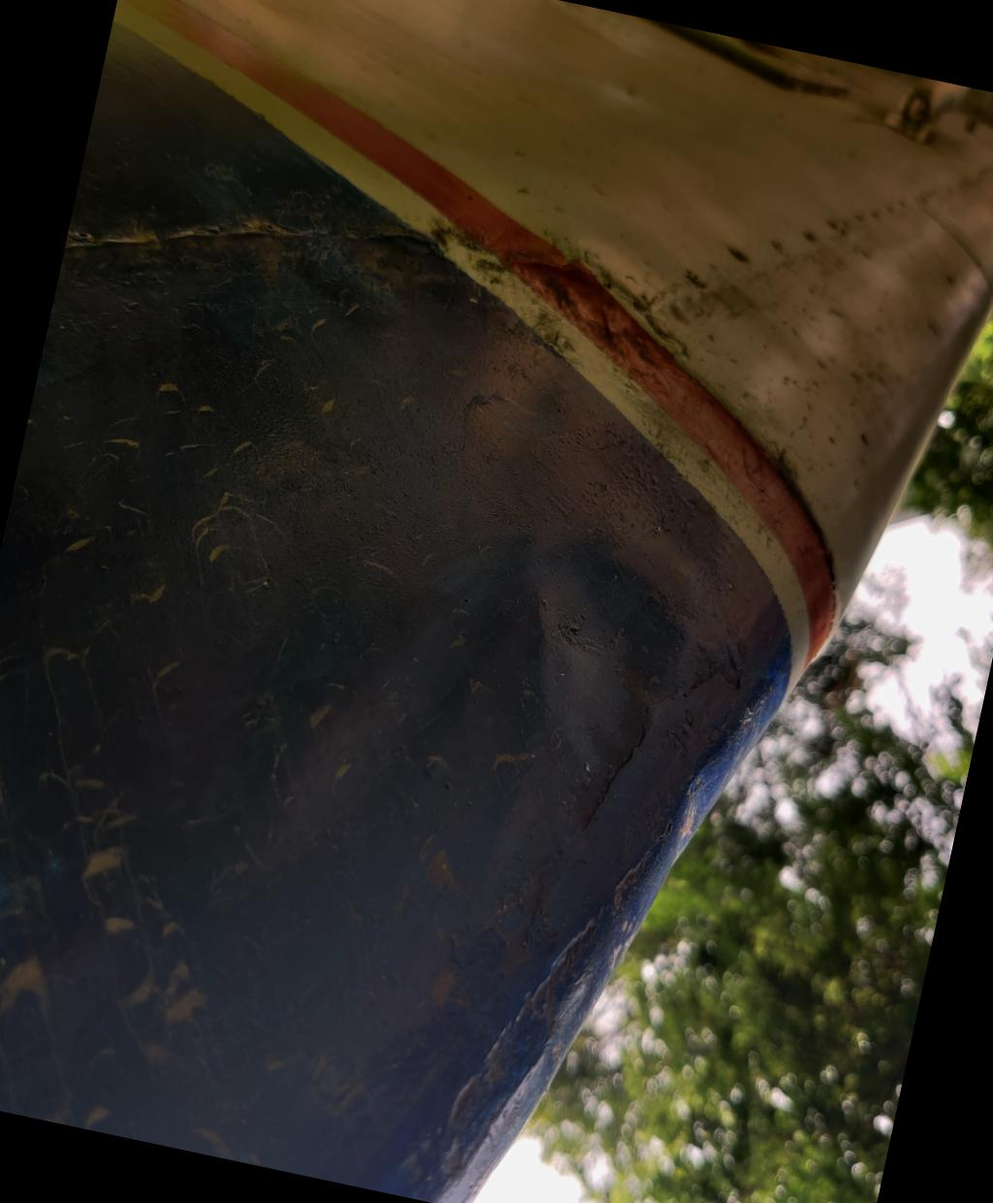dent: (440, 472, 753, 876)
